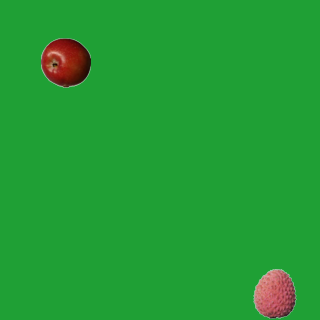Apple Braeburn: (40, 37, 90, 87)
Lychee: (249, 268, 299, 318)
